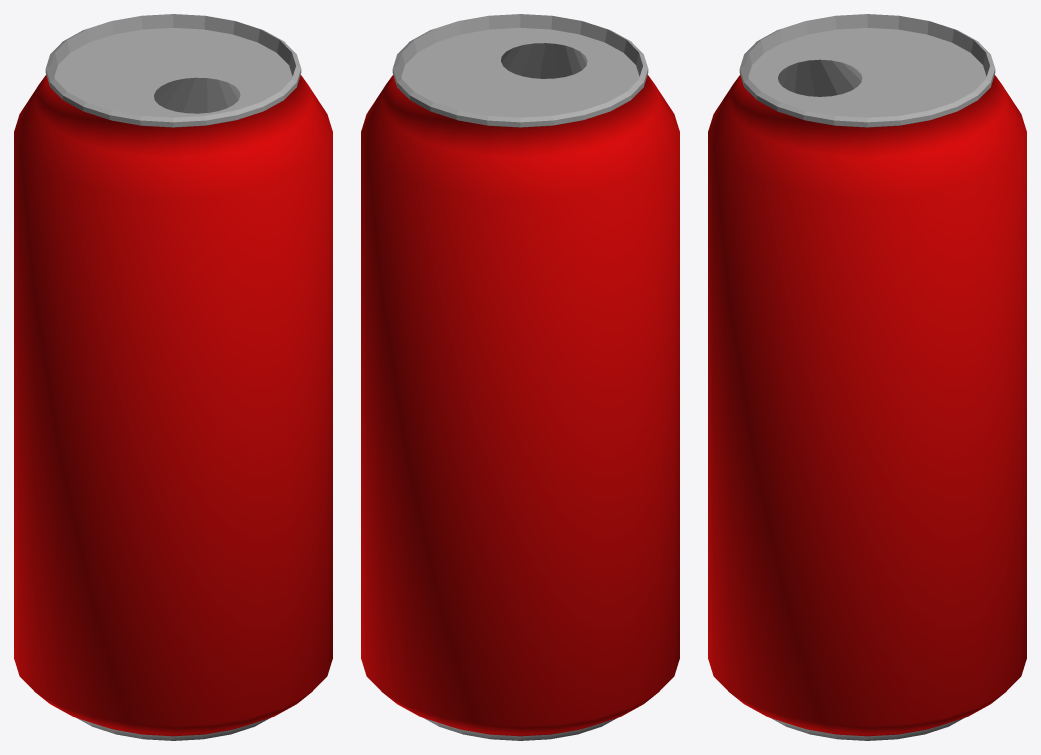
File: SM_Soda_can_RED.fbx
3 views of the same model, side by side, from view 1: azimuth 30°, elevation 25°; view 2: azimuth 150°, elevation 25°; view 3: azimuth 270°, elevation 25° (orthographic).
Parts seen in each view (by area): view 1: SM_Soda_Can; view 2: SM_Soda_Can; view 3: SM_Soda_Can.
Boxes of the visible parts, x1,y1,x2,y2 form: SM_Soda_Can: [14, 14, 332, 740]; SM_Soda_Can: [361, 14, 679, 740]; SM_Soda_Can: [708, 14, 1026, 740].
Size of the model in its own units: 0.053 by 0.115 by 0.053.
1 material, 1 textured.
